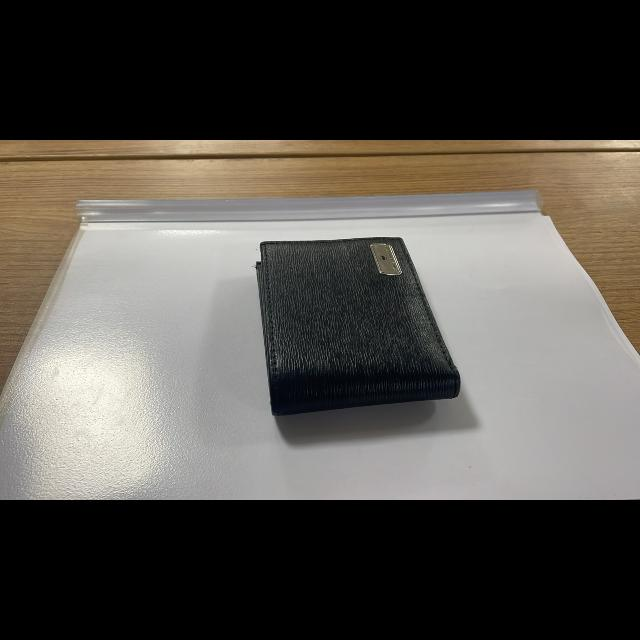wallet: (247, 230, 475, 430)
